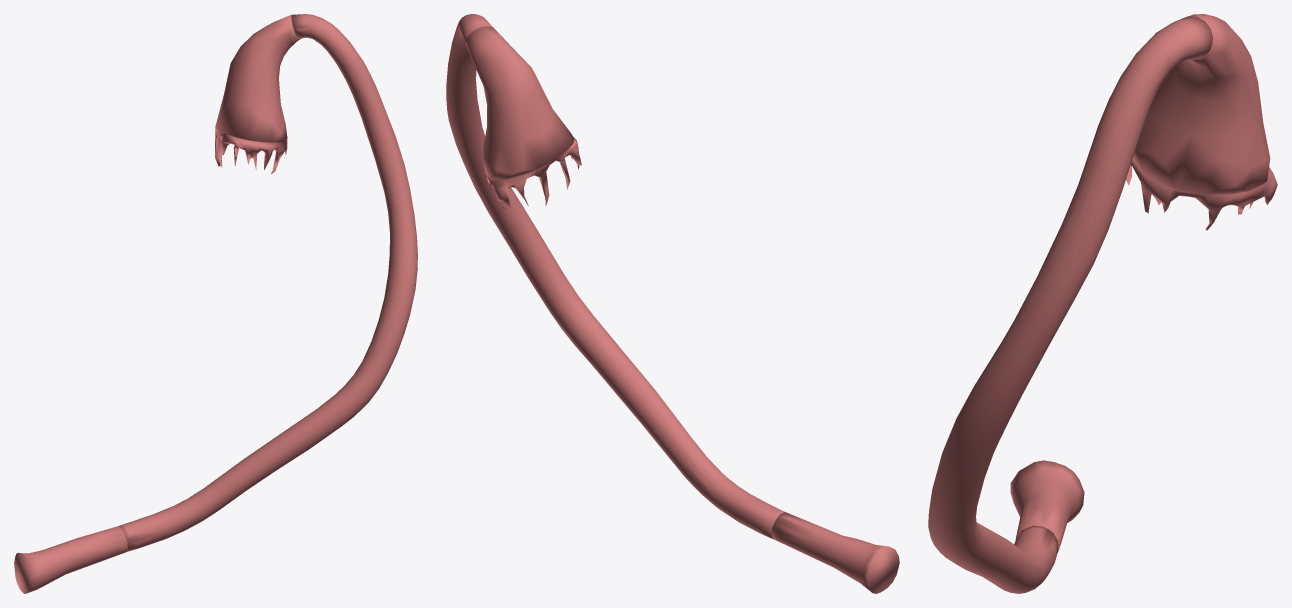
The model's file is vh_f_fallopian_tube_l-20.glb.
3 renders of one model, left to right at view 1: azimuth 30°, elevation 25°; view 2: azimuth 150°, elevation 25°; view 3: azimuth 270°, elevation 25°, orthographic. The views are drawn at different scales.
Parts seen in each view (by area): view 1: VH_F_ampulla_of_uterine_tube_L, VH_F_uterine_tube_infundibulum_L, VH_F_isthmus_of_fallopian_tube_L, VH_F_fibria_of_uterine_tube_L; view 2: VH_F_ampulla_of_uterine_tube_L, VH_F_uterine_tube_infundibulum_L, VH_F_isthmus_of_fallopian_tube_L, VH_F_fibria_of_uterine_tube_L; view 3: VH_F_ampulla_of_uterine_tube_L, VH_F_uterine_tube_infundibulum_L, VH_F_isthmus_of_fallopian_tube_L, VH_F_fibria_of_uterine_tube_L.
Part boxes in pixels (<box>): VH_F_ampulla_of_uterine_tube_L: <box>118,14,417,551</box>; VH_F_uterine_tube_infundibulum_L: <box>215,14,299,142</box>; VH_F_isthmus_of_fallopian_tube_L: <box>14,526,127,593</box>; VH_F_fibria_of_uterine_tube_L: <box>215,126,287,173</box>; VH_F_ampulla_of_uterine_tube_L: <box>446,14,785,539</box>; VH_F_uterine_tube_infundibulum_L: <box>465,26,574,179</box>; VH_F_isthmus_of_fallopian_tube_L: <box>771,512,899,593</box>; VH_F_fibria_of_uterine_tube_L: <box>486,138,581,213</box>; VH_F_ampulla_of_uterine_tube_L: <box>928,16,1212,593</box>; VH_F_uterine_tube_infundibulum_L: <box>1133,14,1270,194</box>; VH_F_isthmus_of_fallopian_tube_L: <box>1010,460,1084,553</box>; VH_F_fibria_of_uterine_tube_L: <box>1126,158,1277,230</box>.
Bounding box in the file's own units: 0.0386 × 0.0445 × 0.0186.
